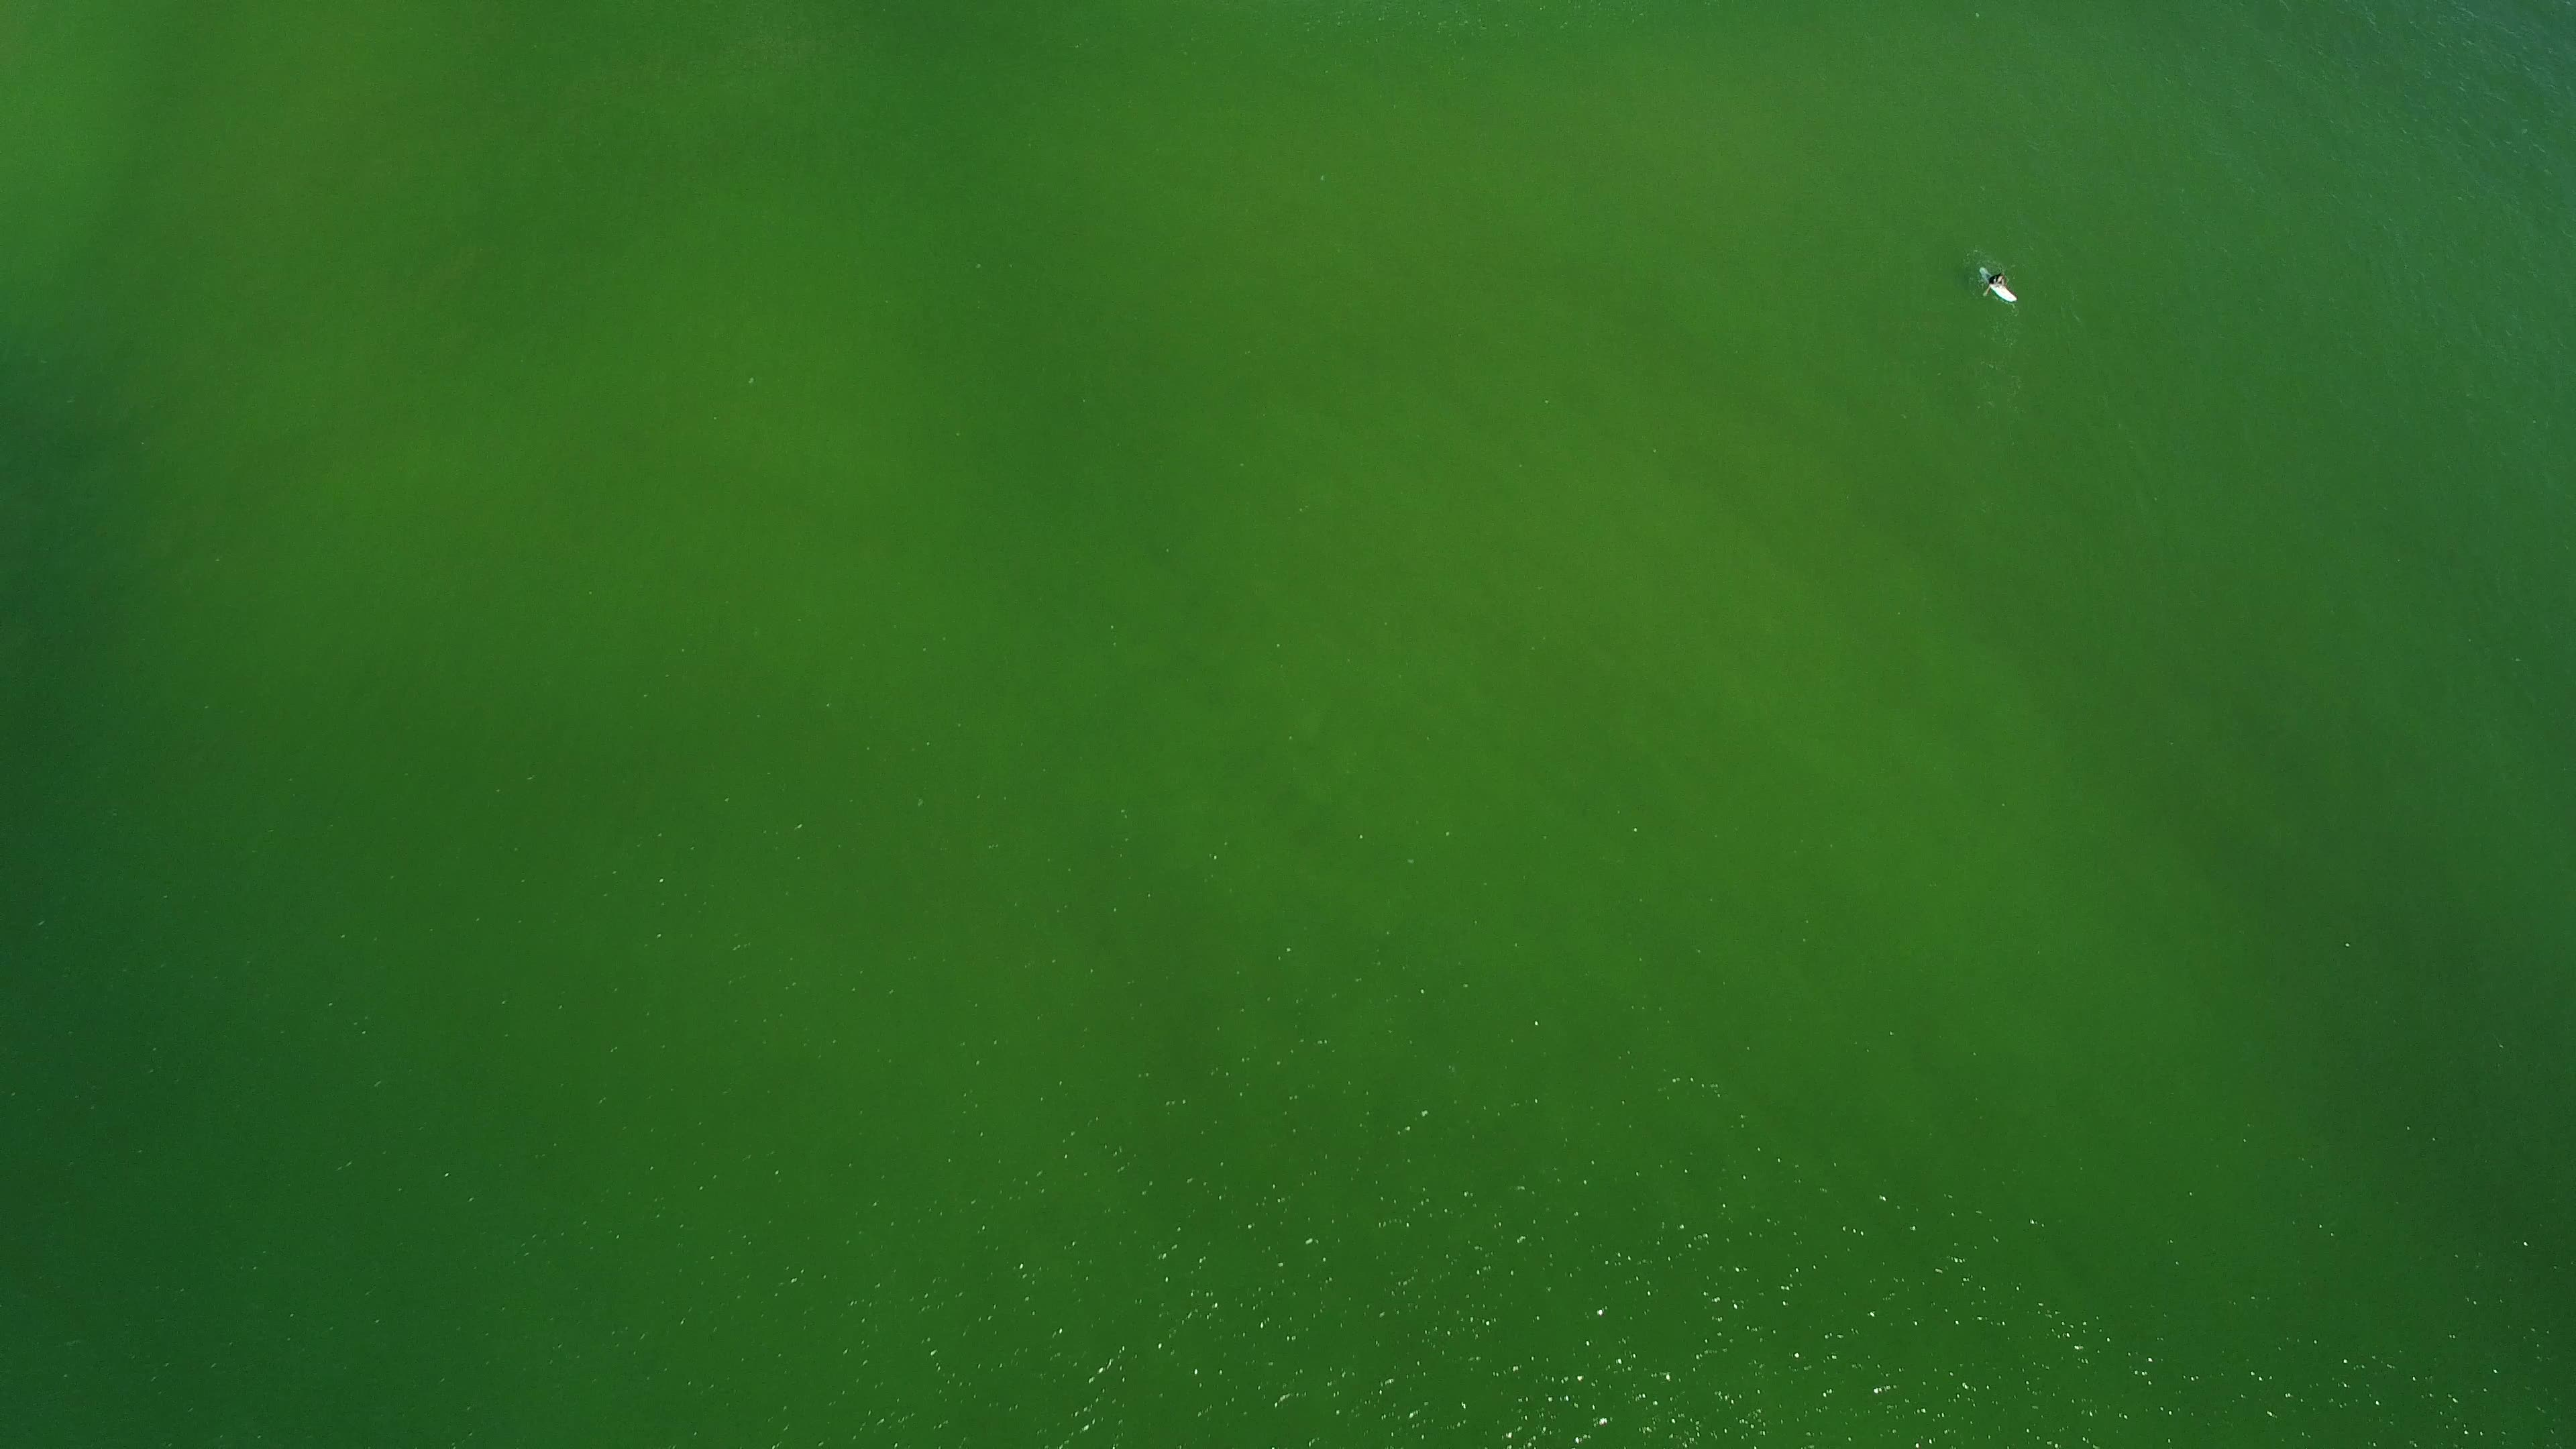surfer: (1964, 255, 2028, 313)
